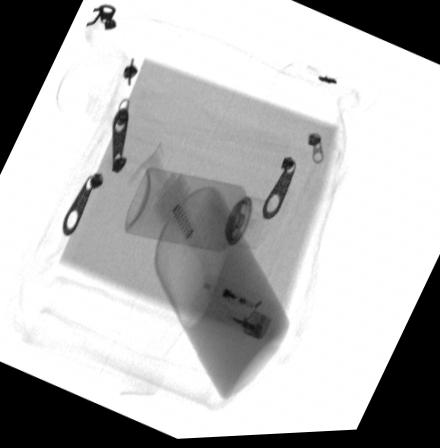Lighter: (188, 272, 282, 341)
Sprayer: (124, 168, 275, 252)
